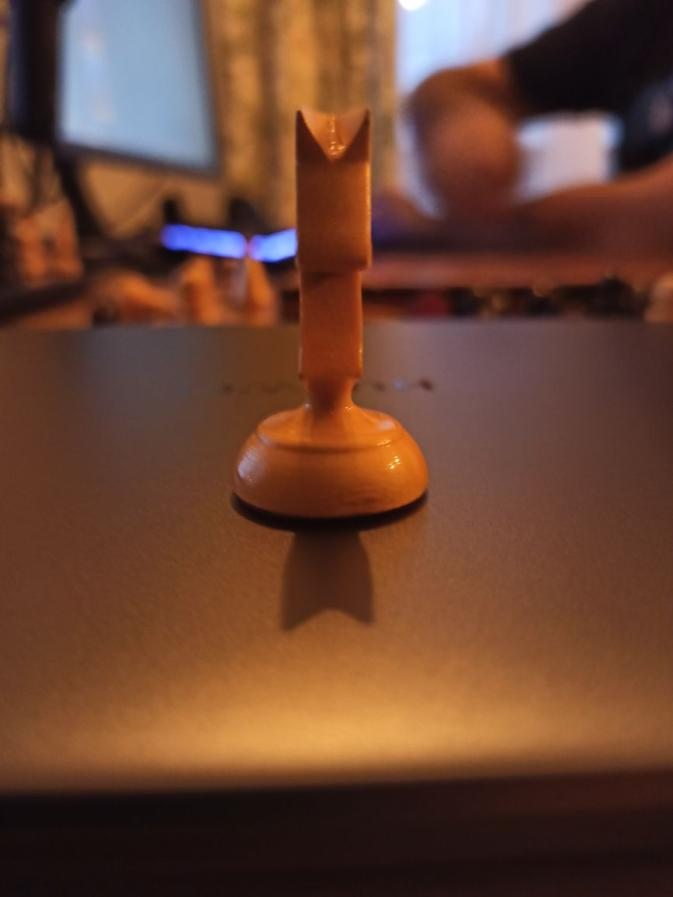wknight: (231, 107, 428, 523)
